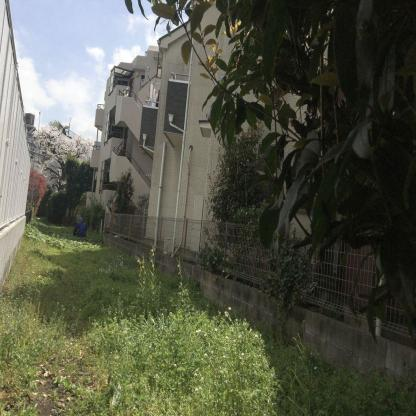Someiyoshino: (33, 114, 95, 186)
